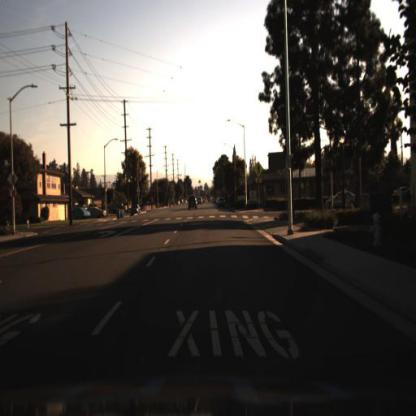car: (319, 187, 363, 216), (67, 206, 94, 224), (184, 193, 200, 217), (73, 209, 95, 221), (93, 204, 109, 220), (129, 202, 144, 218), (130, 202, 143, 218)
